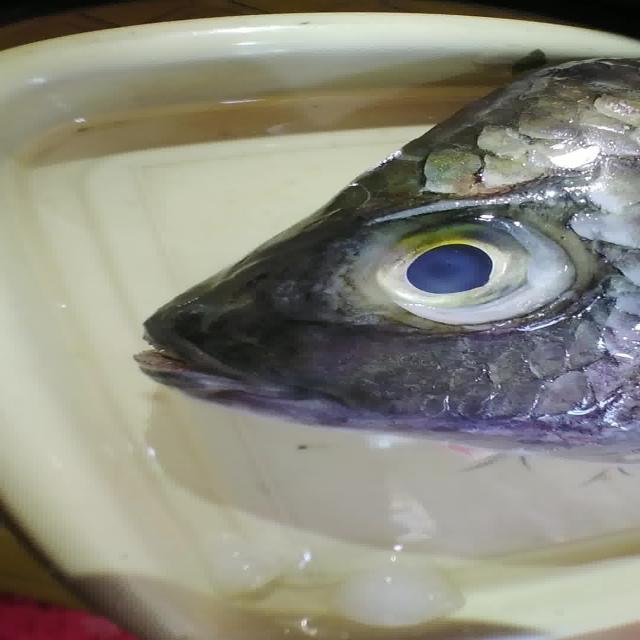Fresh: (316, 192, 618, 344)
